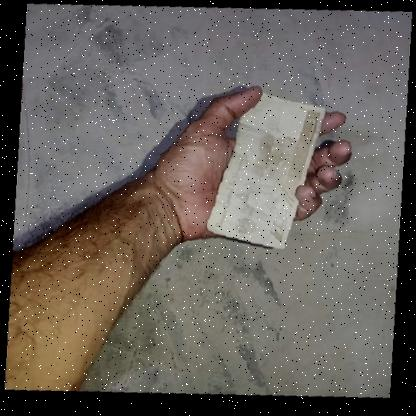five-back-vef: (204, 90, 328, 254)
